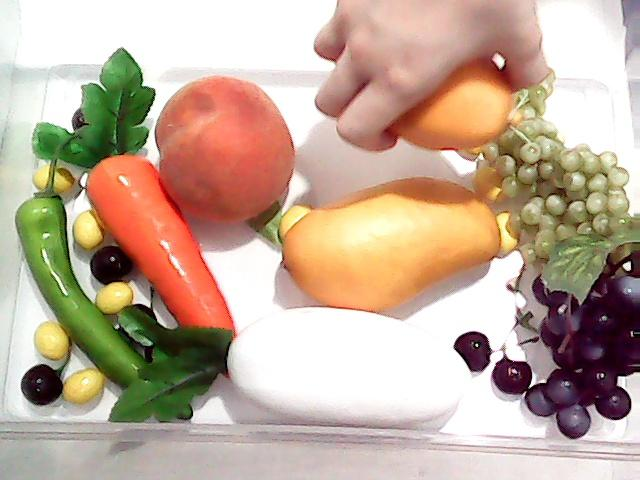carrot: (32, 44, 236, 380)
grape: (482, 65, 634, 267), (524, 248, 640, 440)
lemon: (372, 54, 544, 166)
mango: (280, 174, 500, 316)
peach: (154, 73, 294, 225)
pepper: (12, 166, 194, 418)
radish: (111, 304, 472, 436)
